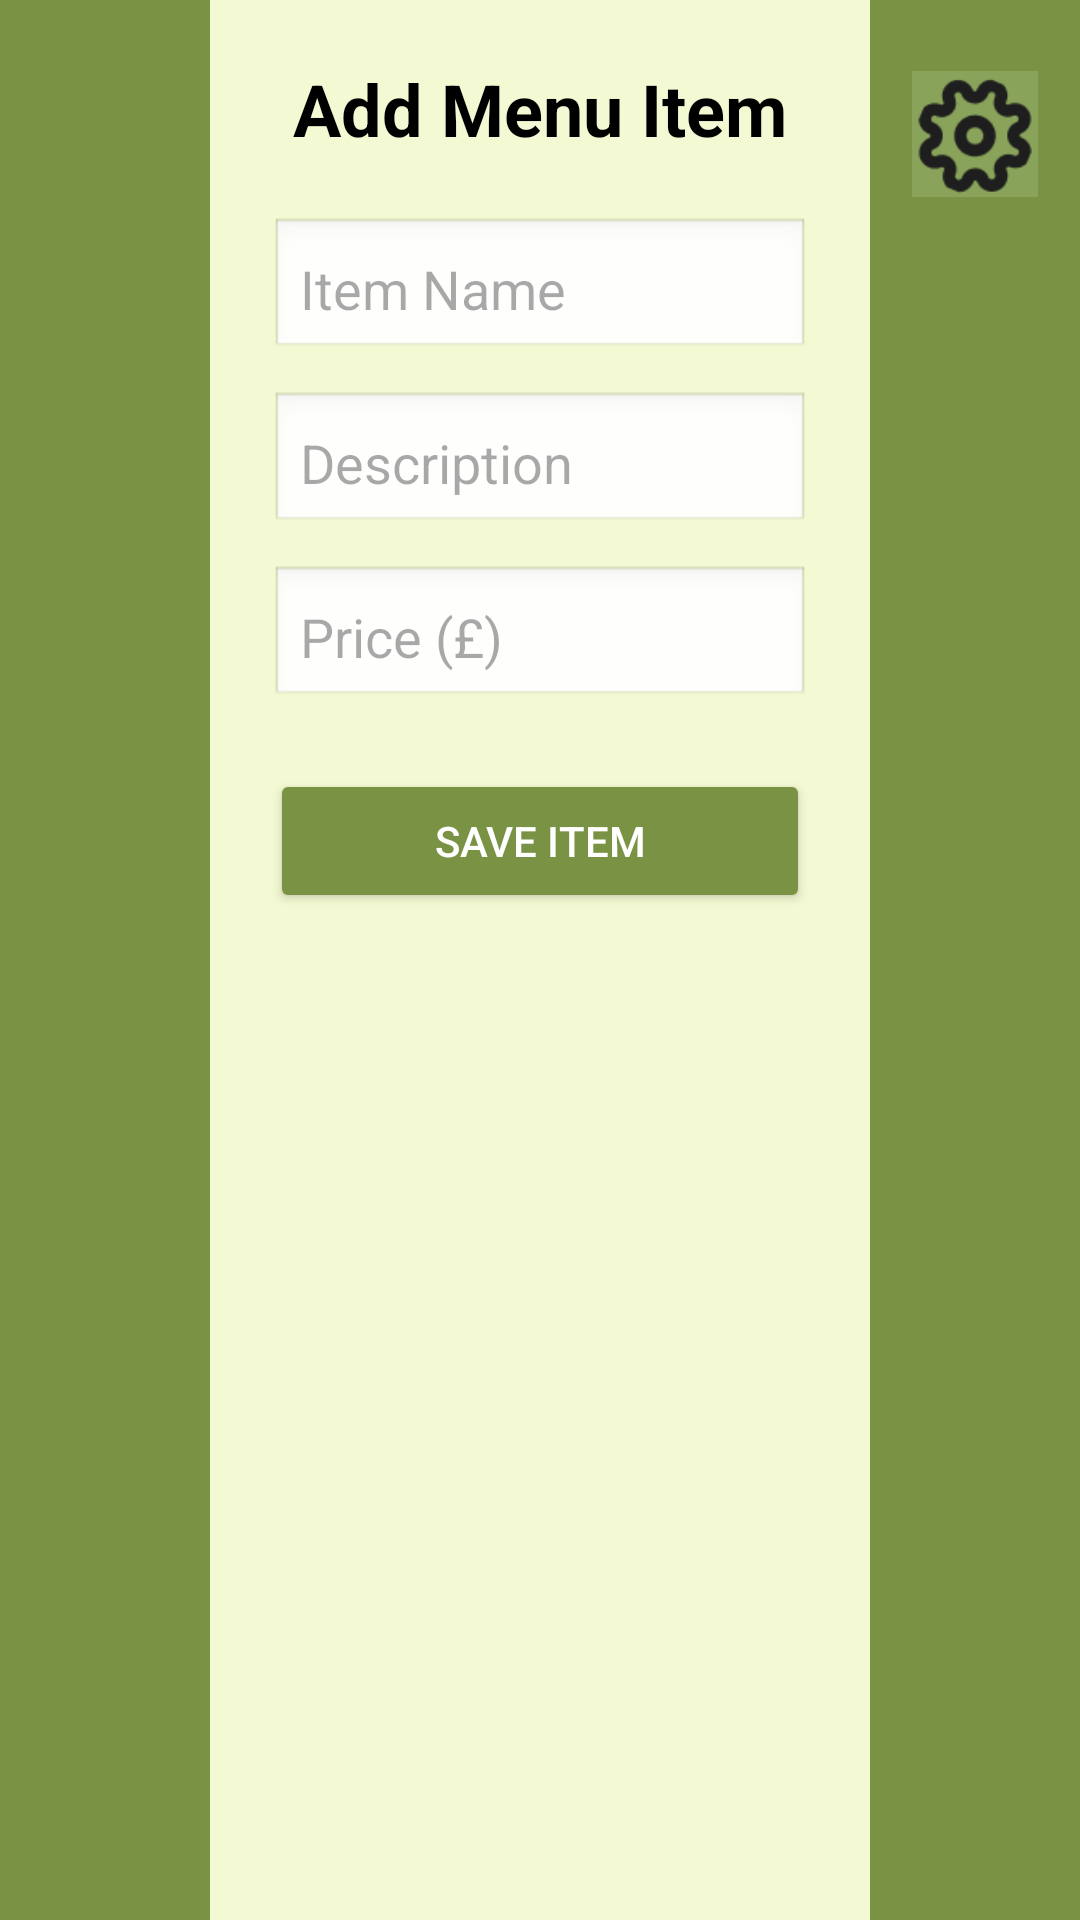

Icon click points for this 1080px x 1920px phone screenshot, format (x=x, y=y):
settings: (x=975, y=136)
